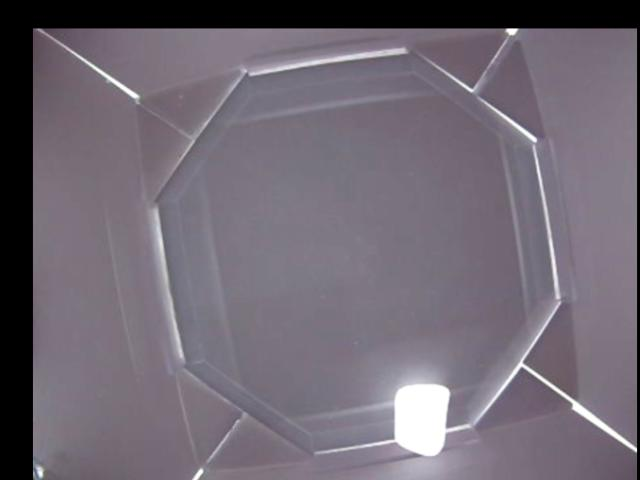Pebble: (394, 381, 447, 456)
